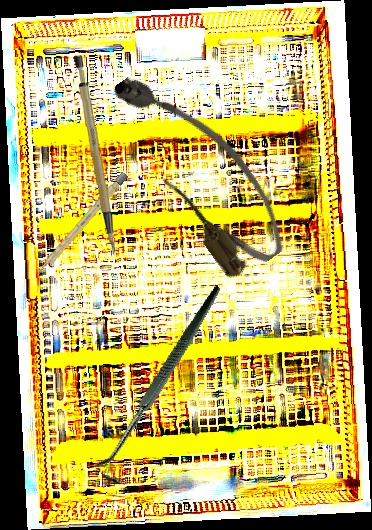Cannula: (100, 50, 299, 286)
Hook Surgical: (48, 284, 279, 489)
Scalpel Handle: (35, 171, 129, 277), (71, 53, 118, 259)
